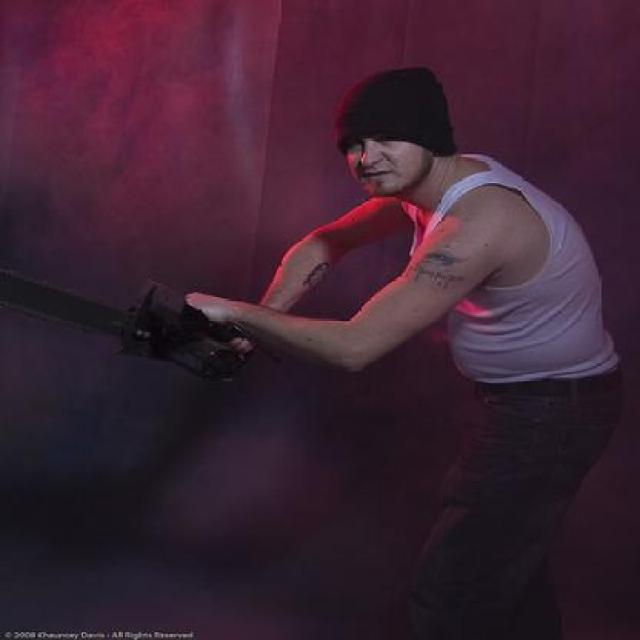Chainsaw: (0, 257, 260, 391)
